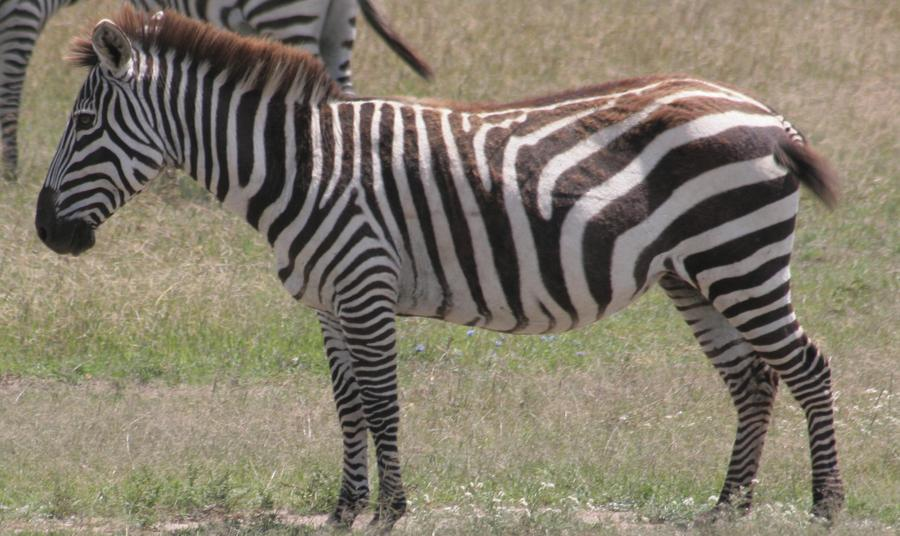zebra_plains: (262, 73, 808, 322)
